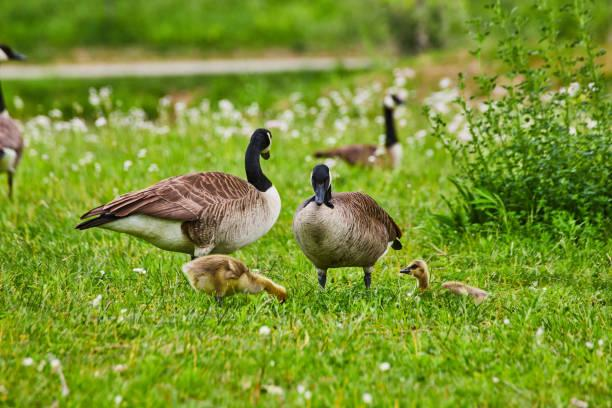Canadian-Goose: (77, 132, 286, 256), (293, 166, 401, 277), (313, 95, 406, 174), (185, 254, 286, 306), (0, 41, 31, 193), (402, 257, 487, 306)
